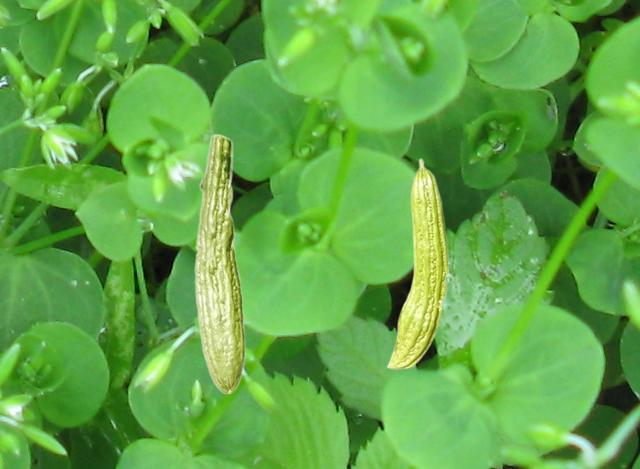ampalaya: (192, 132, 248, 395), (384, 157, 450, 372)
